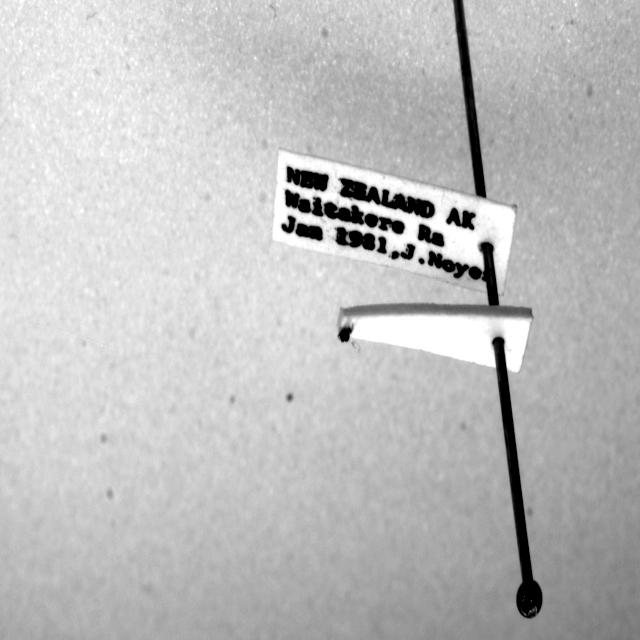typed_label: (272, 148, 516, 294)
